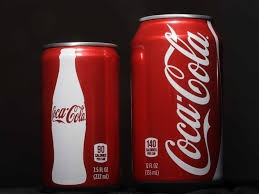can: (129, 11, 224, 184), (38, 41, 121, 188)
